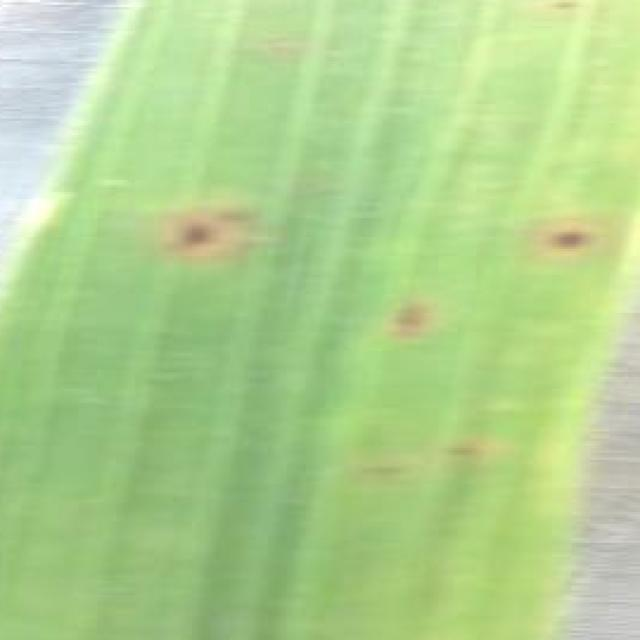Brown_Spot: (531, 211, 614, 263), (380, 286, 450, 346), (166, 208, 240, 256), (351, 451, 415, 488), (213, 192, 270, 230), (436, 434, 491, 464), (542, 0, 592, 16)
